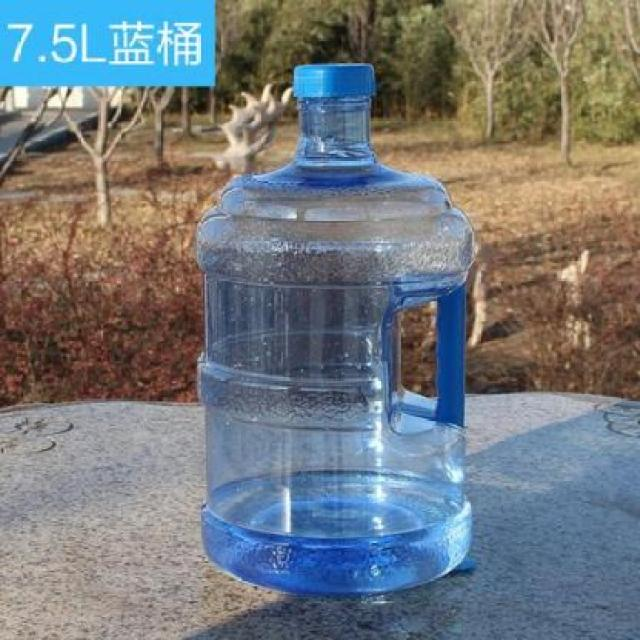coolerbottle: (189, 60, 483, 605)
